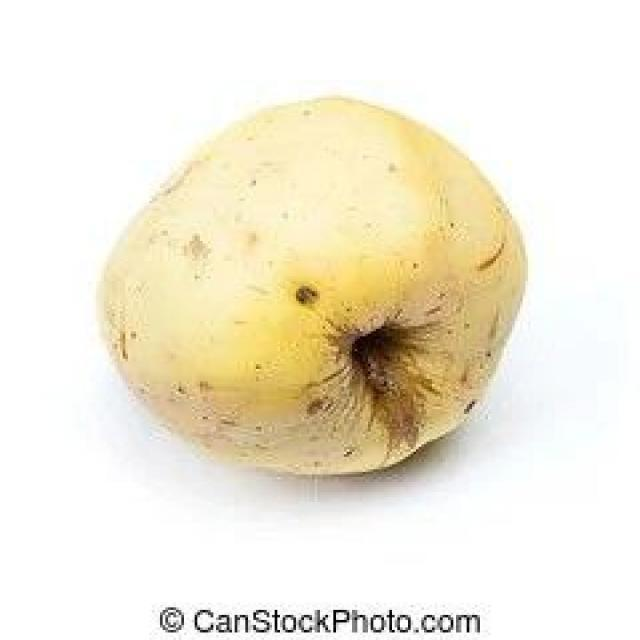Rotten: (112, 81, 535, 476)
